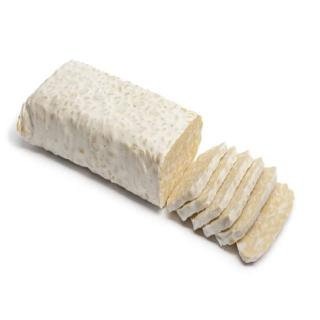Tempe: (191, 152, 266, 238), (167, 142, 237, 222), (215, 166, 278, 247), (237, 182, 296, 265)
